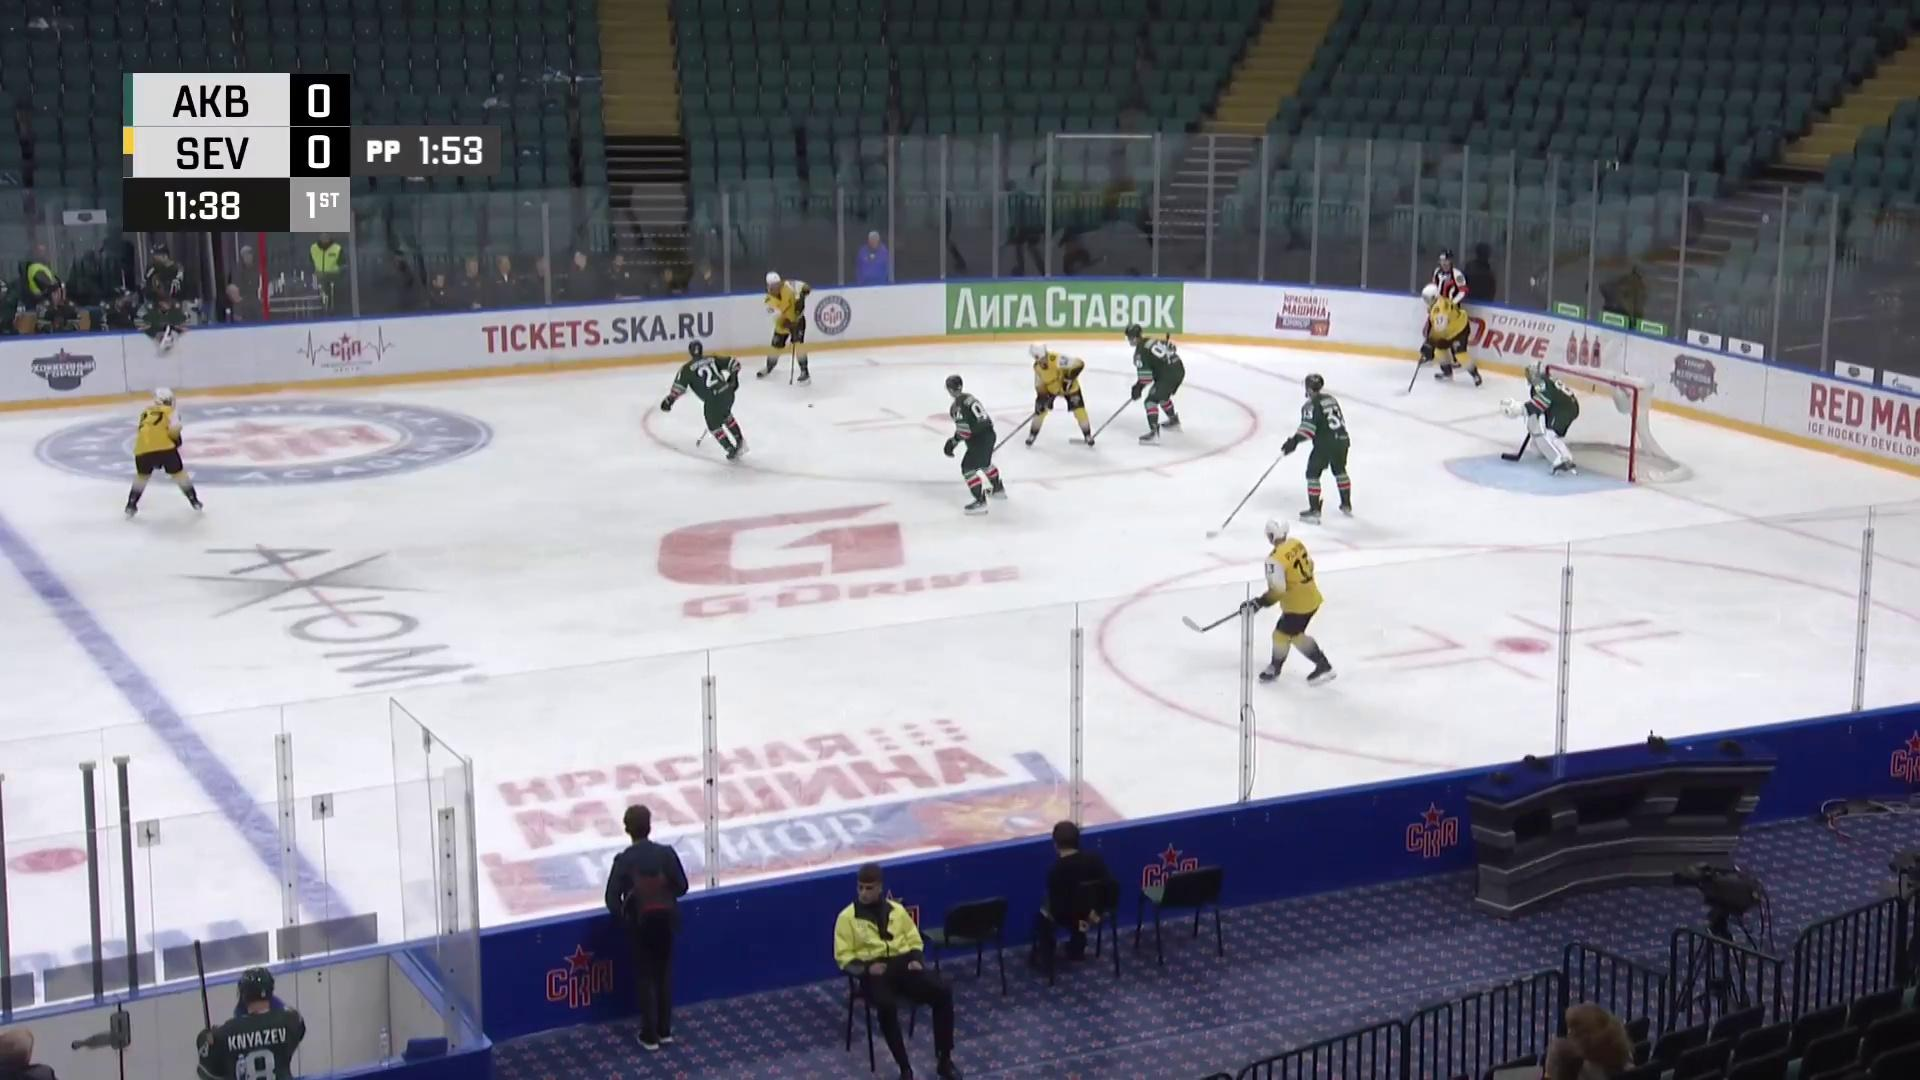ball: (807, 404, 814, 409)
